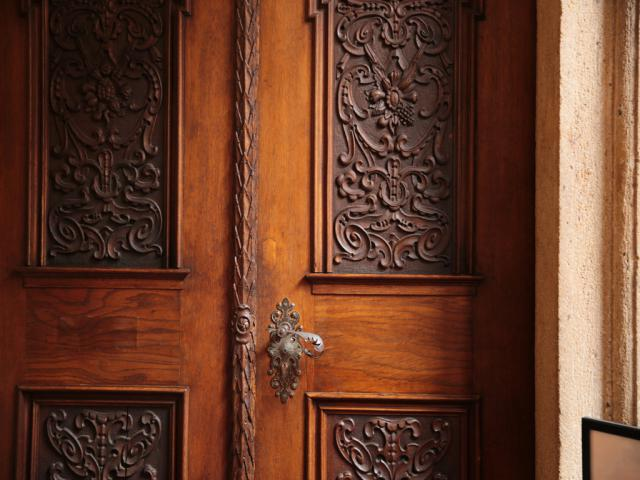Door-handle: (266, 297, 325, 403)
